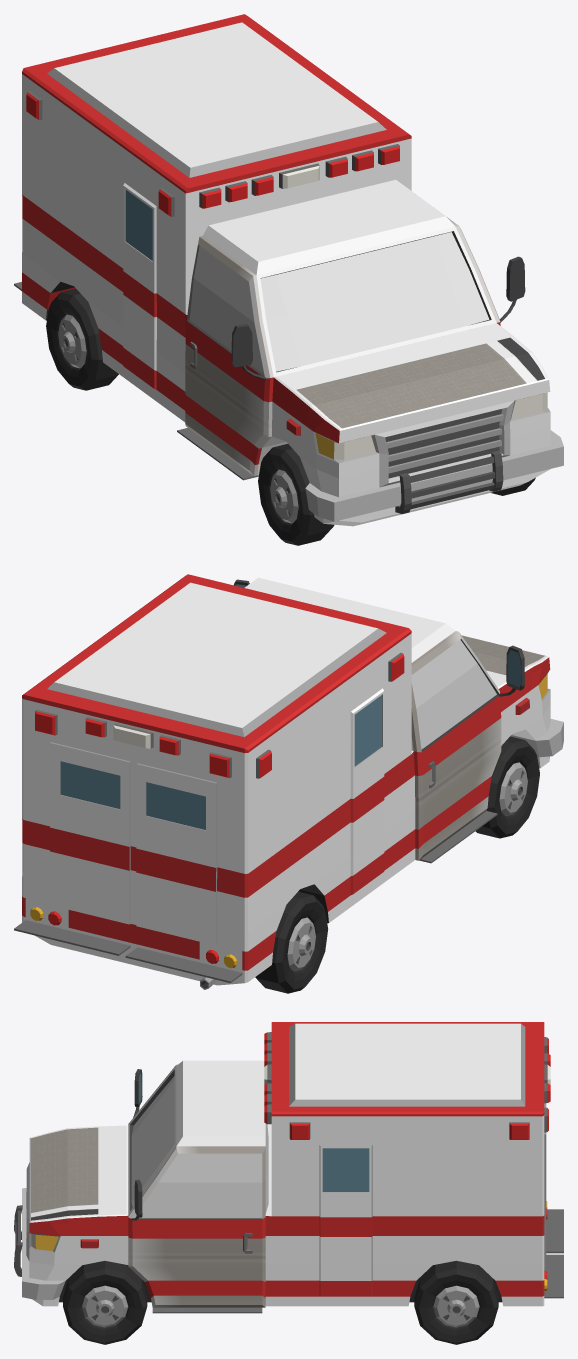
Rendered from Car_Ambulance.fbx.
3 renders of one model, top to bottom at view 1: azimuth 30°, elevation 25°; view 2: azimuth 150°, elevation 25°; view 3: azimuth 270°, elevation 25°, orthographic. The views are drawn at different scales.
Visible parts, largest first — view 1: Ambulance, Ambulance_DoorR, Wheel_Big_RearR, Wheel_Big_FrontR, Ambulance_DoorL; view 2: Ambulance, Ambulance_DoorR, Wheel_Big_RearR, Wheel_Big_FrontR; view 3: Ambulance, Ambulance_DoorL, Wheel_Big_RearL, Wheel_Big_FrontL, Ambulance_DoorR.
Boxes of the visible parts, box(x1,y1,x2,y2) form: Ambulance: box(14, 14, 563, 526); Ambulance_DoorR: box(185, 236, 273, 475); Wheel_Big_RearR: box(46, 288, 118, 390); Wheel_Big_FrontR: box(258, 444, 334, 545); Ambulance_DoorL: box(447, 217, 525, 325); Ambulance: box(14, 574, 563, 989); Ambulance_DoorR: box(411, 631, 524, 860); Wheel_Big_RearR: box(255, 891, 328, 993); Wheel_Big_FrontR: box(475, 736, 539, 838); Ambulance: box(14, 1022, 563, 1313); Ambulance_DoorL: box(128, 1146, 265, 1307); Wheel_Big_RearL: box(414, 1260, 498, 1344); Wheel_Big_FrontL: box(63, 1261, 147, 1344); Ambulance_DoorR: box(128, 1064, 177, 1124).
Size of the model in its own units: 335 by 313 by 658.
